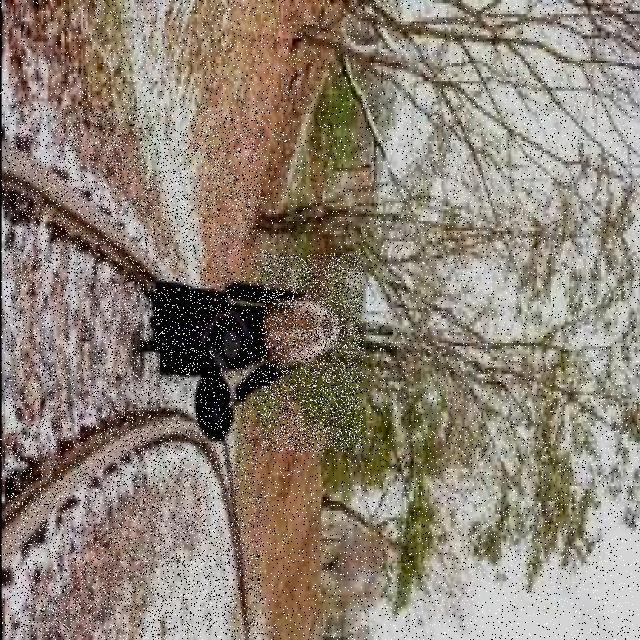rail: (7, 109, 264, 639)
